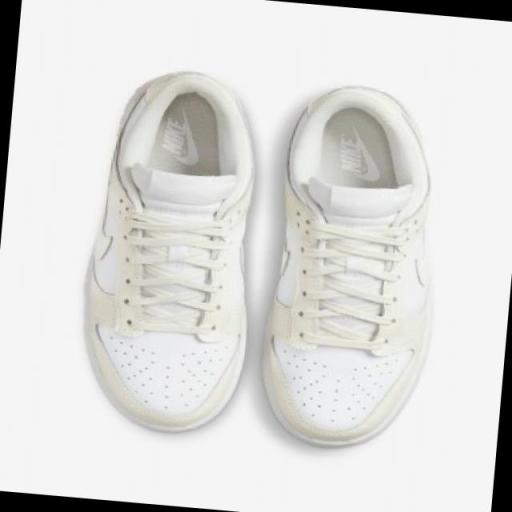Nike: (160, 112, 188, 156), (356, 141, 385, 182)
